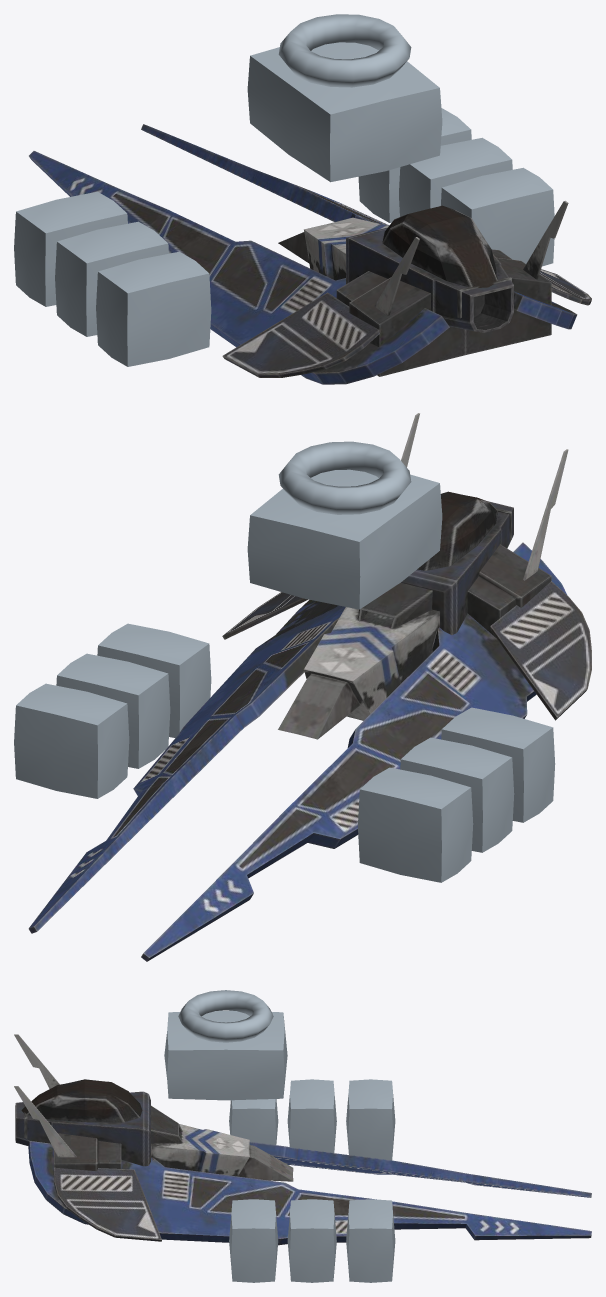
File: ally_freighter.glb
3 views of the same model, one above another, from view 1: azimuth 30°, elevation 25°; view 2: azimuth 150°, elevation 25°; view 3: azimuth 270°, elevation 25° (orthographic). The views are drawn at different scales.
Visible parts, largest first — view 1: ally_freighter; view 2: ally_freighter; view 3: ally_freighter.
Part boxes in pixels (x1,y1,x2,y2): ally_freighter: (14, 14, 591, 384); ally_freighter: (14, 413, 591, 961); ally_freighter: (14, 990, 591, 1282).
Size of the model in its own units: 1.16 by 0.7554 by 1.88.
2 materials, 1 textured.
